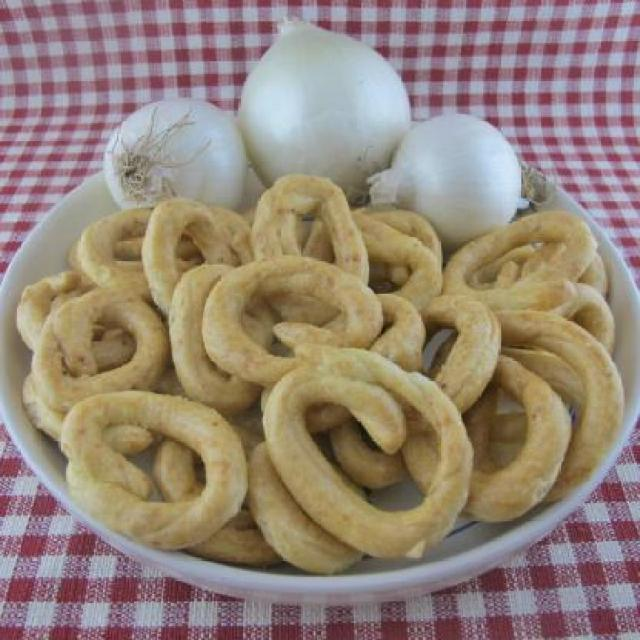Taralli: (17, 173, 625, 570)
